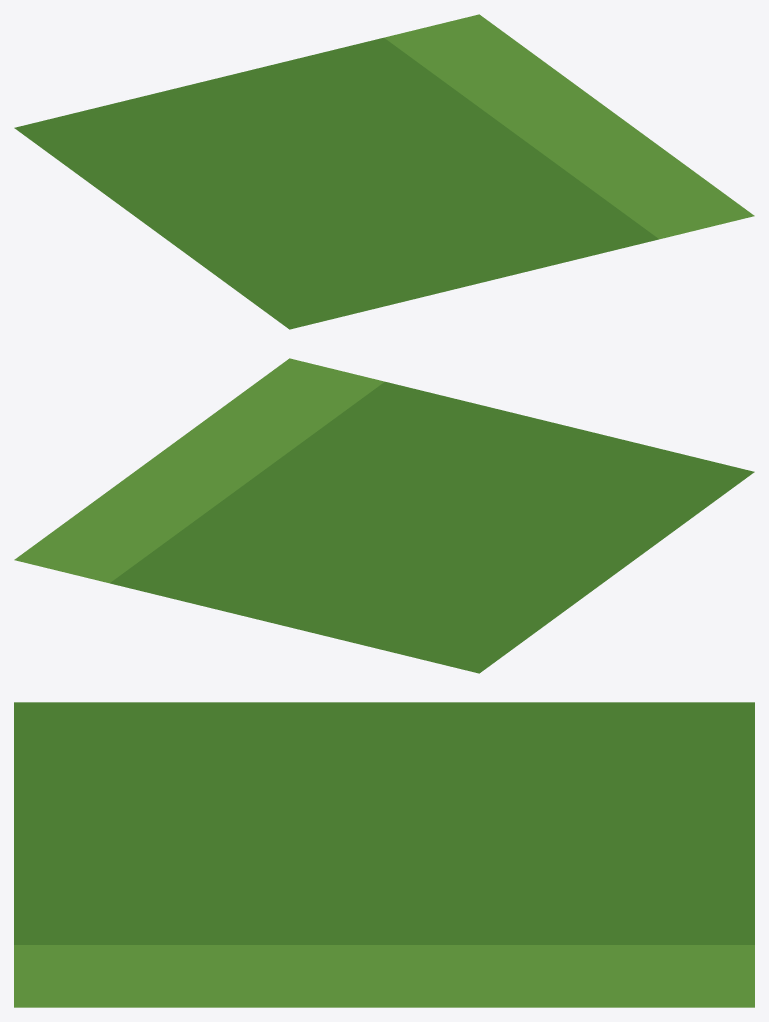
File: pitch_f_7_4.glb
The picture shows the model from 3 angles, top to bottom: view 1: azimuth 30°, elevation 25°; view 2: azimuth 150°, elevation 25°; view 3: azimuth 270°, elevation 25°; orthographic projection. The views are drawn at different scales.
Visible parts, largest first — view 1: pitch_f_7_4; view 2: pitch_f_7_4; view 3: pitch_f_7_4.
Part boxes in pixels (x1,y1,x2,y2): pitch_f_7_4: (14, 14, 754, 329); pitch_f_7_4: (14, 358, 754, 673); pitch_f_7_4: (14, 702, 754, 1007).
Size of the model in its own units: 9.75 by 0 by 10.
